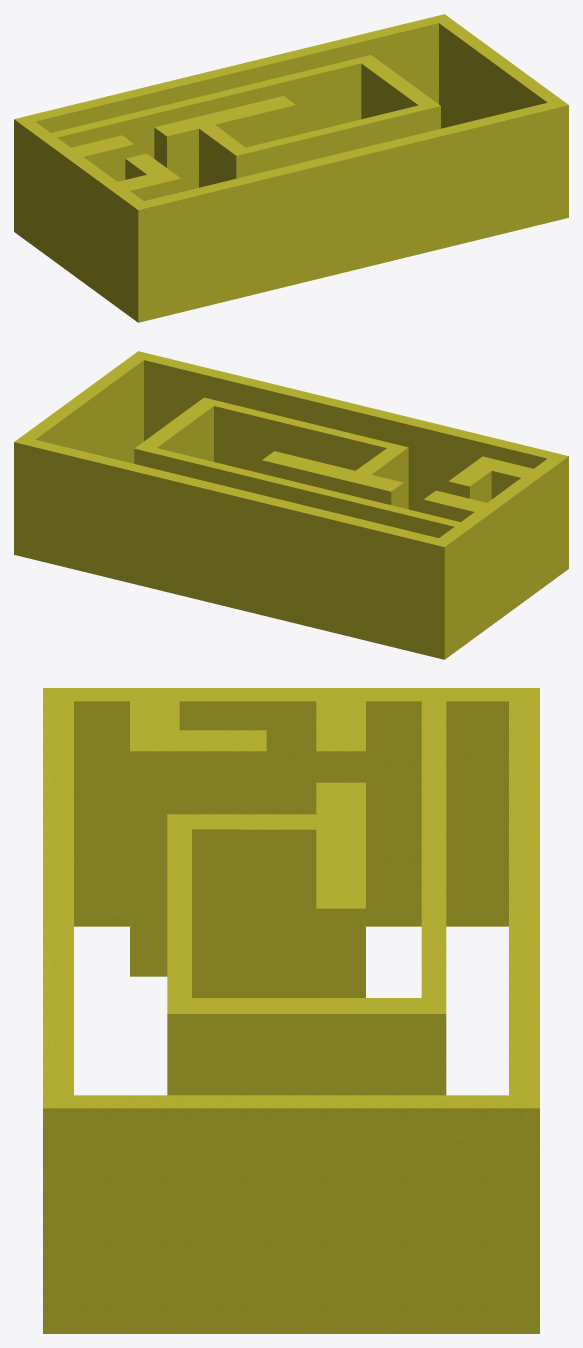
The model's file is Level8.obj.
3 views of the same model, one above another, from view 1: azimuth 30°, elevation 25°; view 2: azimuth 150°, elevation 25°; view 3: azimuth 270°, elevation 25° (orthographic). The views are drawn at different scales.
Visible parts, largest first — view 1: Rectangle01, Line01, Line02, Rectangle03; view 2: Rectangle01, Line01, Line02, Rectangle03; view 3: Rectangle01, Line01, Line02, Rectangle03.
Part boxes in pixels (x1,y1,x2,y2): Rectangle01: [14, 14, 568, 322]; Line01: [49, 55, 440, 191]; Line02: [118, 153, 181, 200]; Rectangle03: [70, 135, 134, 181]; Rectangle01: [14, 351, 568, 659]; Line01: [134, 397, 462, 537]; Line02: [448, 456, 533, 502]; Rectangle03: [423, 490, 486, 521]; Rectangle01: [43, 688, 539, 1333]; Line01: [167, 700, 446, 1095]; Line02: [130, 700, 266, 976]; Rectangle03: [316, 699, 365, 782].
Bounding box in the file's own units: 8 × 2 × 4.
